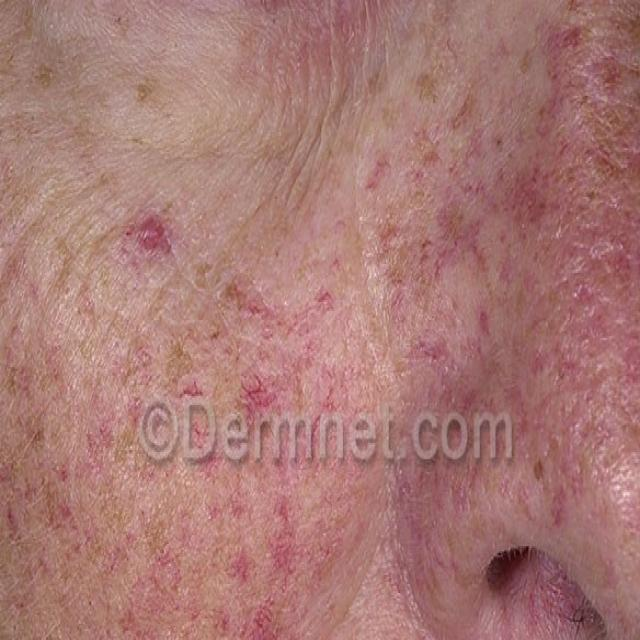Vascular Tumors: (520, 9, 640, 600), (109, 191, 339, 471), (344, 135, 507, 407), (174, 484, 346, 640), (0, 319, 99, 534), (380, 436, 467, 610), (80, 582, 157, 640)
